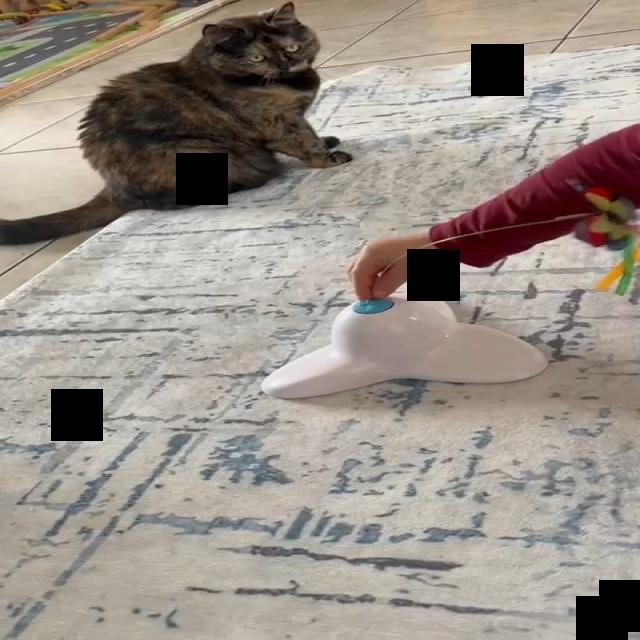authorized: (0, 0, 353, 246)
